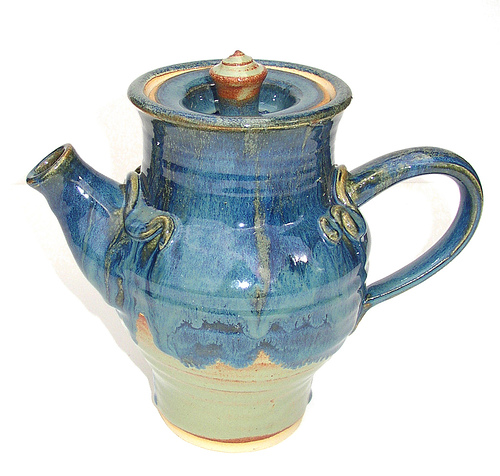teapot: (19, 27, 496, 457)
